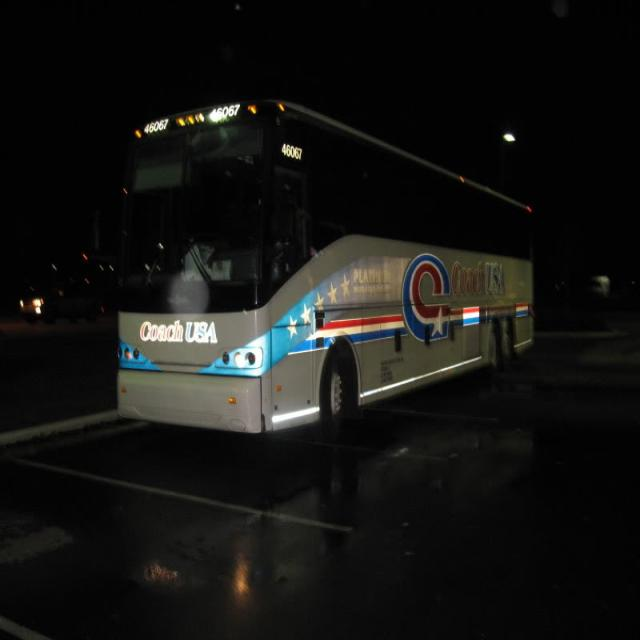Bus: (98, 68, 560, 458)
car: (0, 210, 126, 380)
